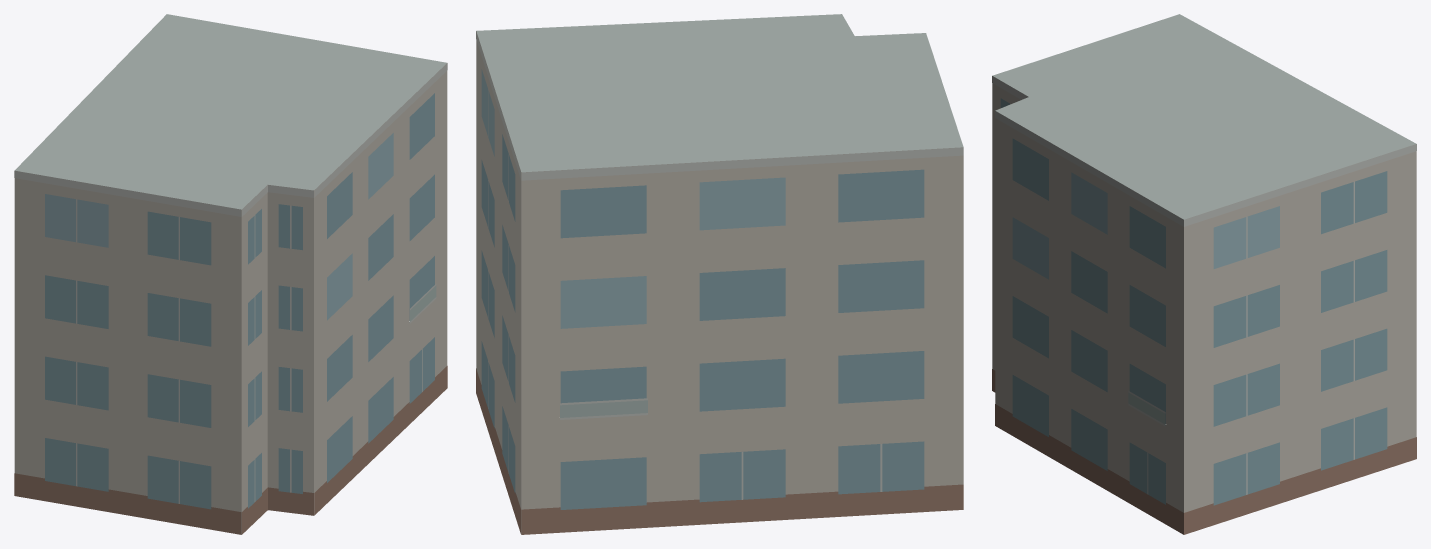
Rendered from survey-upis-32999417.glb.
The picture shows the model from 3 angles, left to right: view 1: azimuth 30°, elevation 25°; view 2: azimuth 150°, elevation 25°; view 3: azimuth 270°, elevation 25°; orthographic projection. The views are drawn at different scales.
Parts seen in each view (by area): view 1: survey-upis-32999417.tmp; view 2: survey-upis-32999417.tmp; view 3: survey-upis-32999417.tmp.
Part boxes in pixels (box(x1,y1,x2,y2)): survey-upis-32999417.tmp: box(14, 14, 447, 534); survey-upis-32999417.tmp: box(476, 14, 963, 534); survey-upis-32999417.tmp: box(992, 14, 1416, 534).
Size of the model in its own units: 14.89 by 10.63 by 12.99.
